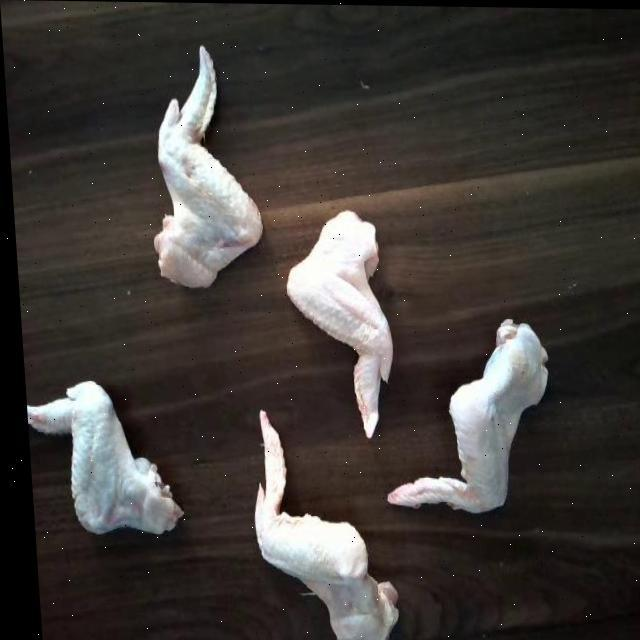wing: (230, 403, 396, 640), (393, 302, 552, 522), (148, 40, 264, 298), (19, 370, 183, 536), (280, 204, 398, 416)
